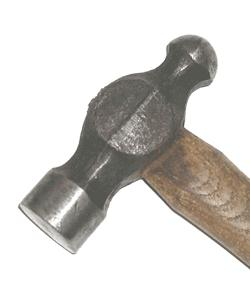hammer: (16, 32, 249, 270)
